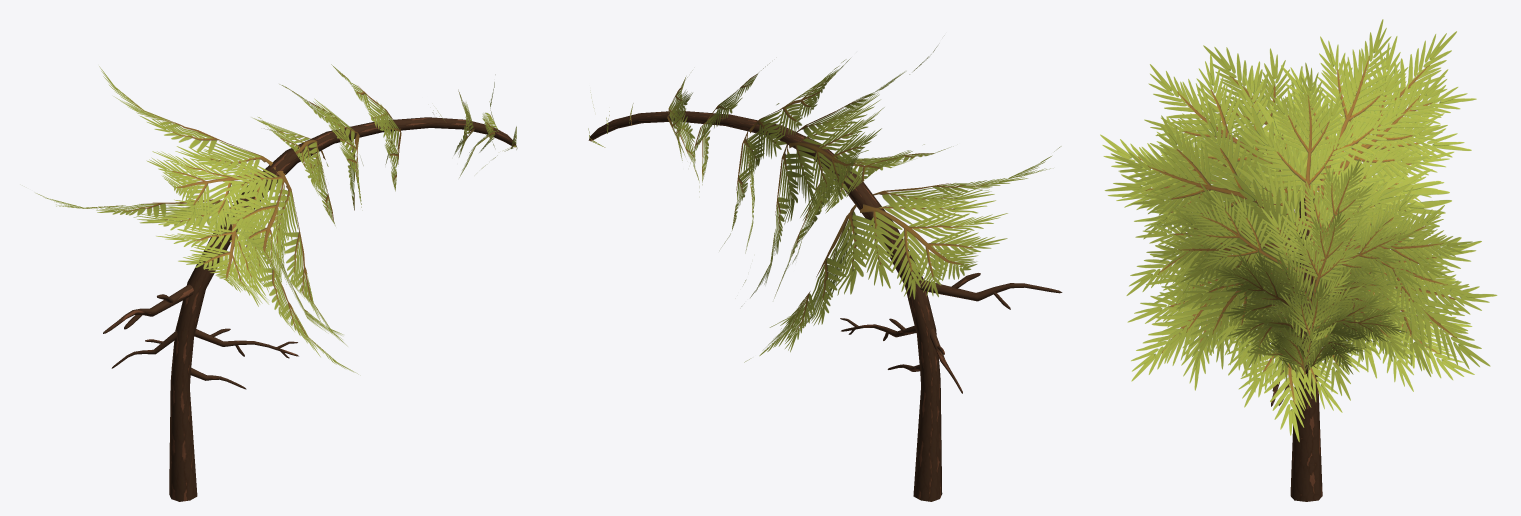
File: pino.glb
3 renders of one model, left to right at view 1: azimuth 30°, elevation 25°; view 2: azimuth 150°, elevation 25°; view 3: azimuth 270°, elevation 25°, orthographic. The views are drawn at different scales.
Parts seen in each view (by area): view 1: pino; view 2: pino; view 3: pino.
Part boxes in pixels (<box>): pino: <box>36,64,517,501</box>; pino: <box>588,46,1062,501</box>; pino: <box>1100,19,1497,501</box>.
Bounding box in the file's own units: 15.12 × 14 × 10.15.
2 materials, 2 textured.
